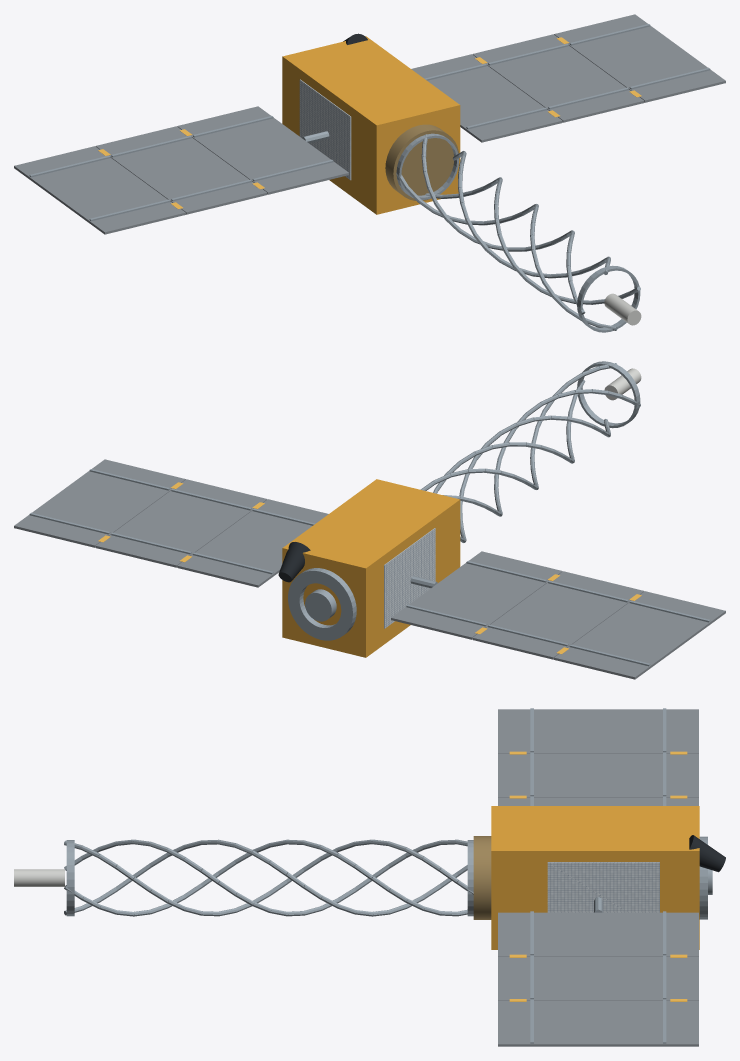
The model's file is kineis-iot.glb.
3 renders of one model, top to bottom at view 1: azimuth 30°, elevation 25°; view 2: azimuth 150°, elevation 25°; view 3: azimuth 270°, elevation 25°, orthographic. The views are drawn at different scales.
Visible parts, largest first — view 1: Solar panel substrate (×6), Spacecraft body, UHF deployment canister, Thermal radiator tiles, UHF spreader ring (×2), Stacked S-band antenna; view 2: Solar panel substrate (×6), Spacecraft body, Thermal radiator tiles, Launch interface, UHF spreader ring, Electric thruster, Star tracker; view 3: Solar panel substrate (×6), Spacecraft body, Thermal radiator tiles, UHF deployment canister, Stacked S-band antenna, Star tracker, UHF spreader ring.
Part boxes in pixels (x1,y1,x2,y2): Solar panel substrate (×6): (14, 14, 725, 234); Spacecraft body: (282, 36, 460, 214); UHF deployment canister: (385, 124, 459, 200); Thermal radiator tiles: (299, 79, 351, 180); UHF spreader ring (×2): (396, 133, 640, 332); Stacked S-band antenna: (604, 293, 641, 325); Solar panel substrate (×6): (14, 459, 725, 679); Spacecraft body: (282, 479, 460, 657); Thermal radiator tiles: (384, 528, 435, 628); Launch interface: (288, 568, 356, 640); UHF spreader ring: (577, 361, 640, 428); Electric thruster: (305, 589, 336, 621); Star tracker: (278, 542, 310, 582); Solar panel substrate (×6): (498, 709, 698, 1046); Spacecraft body: (491, 806, 699, 949); Thermal radiator tiles: (547, 862, 659, 912); UHF deployment canister: (473, 836, 491, 919); Stacked S-band antenna: (14, 869, 64, 886); Star tracker: (689, 835, 725, 872); UHF spreader ring: (66, 840, 74, 916).
Size of the model in its own units: 1.6 by 0.2594 by 1.44.
Materials: 10 (2 with a texture image).
